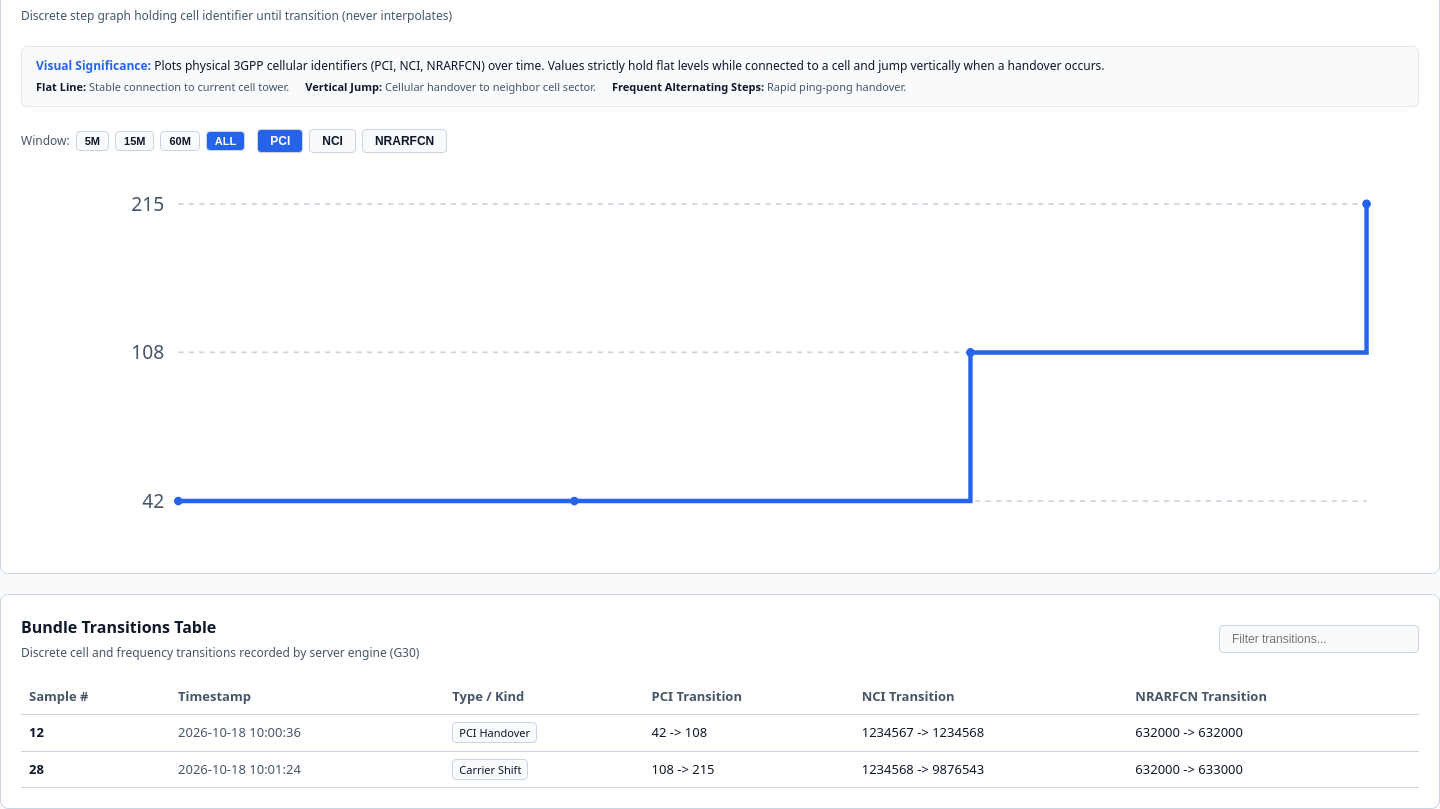
Test: Cells & Network Page (T16-012 / Guardrail G30) › filters transitions via search query
The width and height of the screenshot is (1440, 809).
(page scrolled)
Type "Carrier" into the field with placeholder "Filter transitions..." at (1319, 639), box left=1219, top=625, right=1419, bottom=653
(page scrolled)
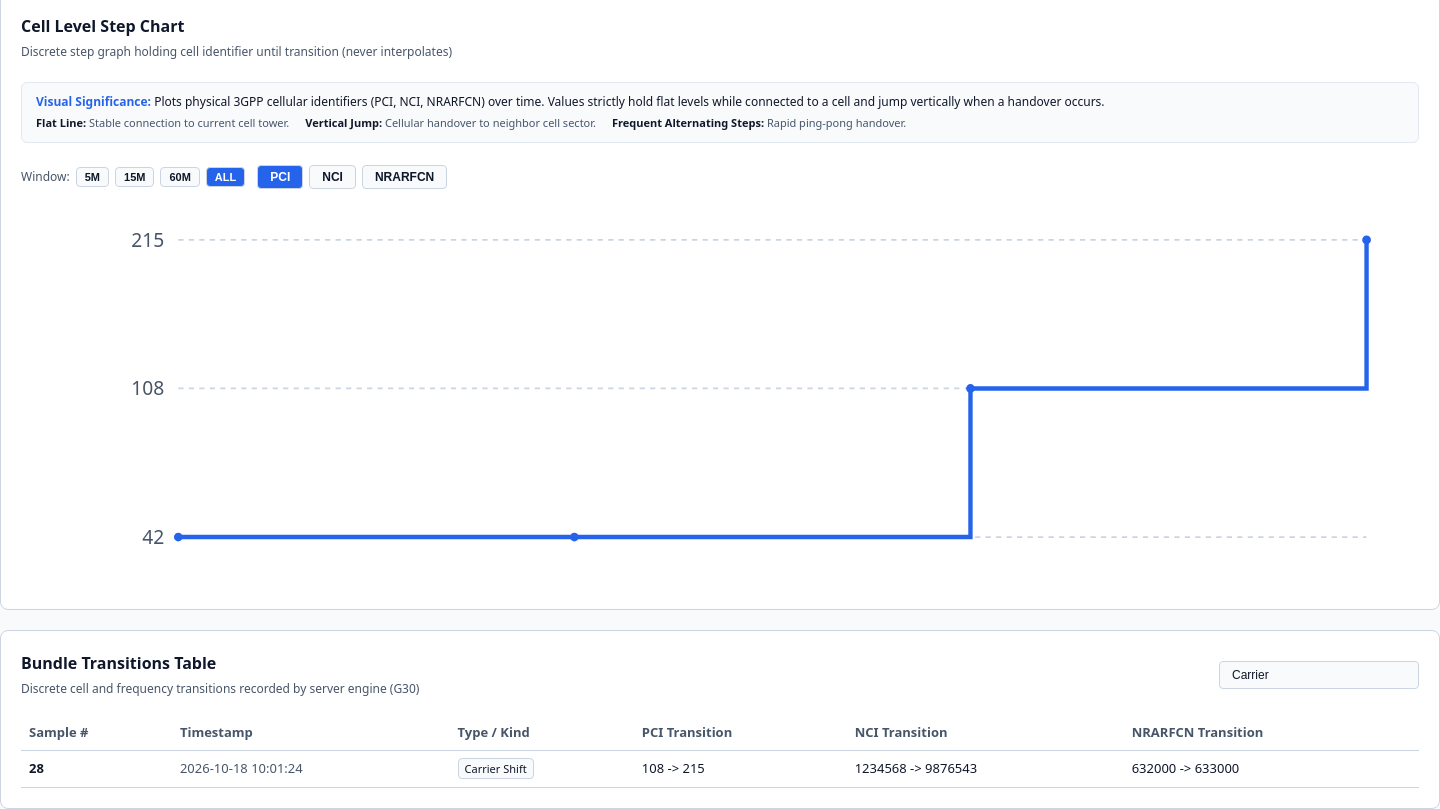
Expected: the text "Carrier Shift" is shown, left=458, top=758, right=534, bottom=779
Expected: the text "PCI Handover" is gone
